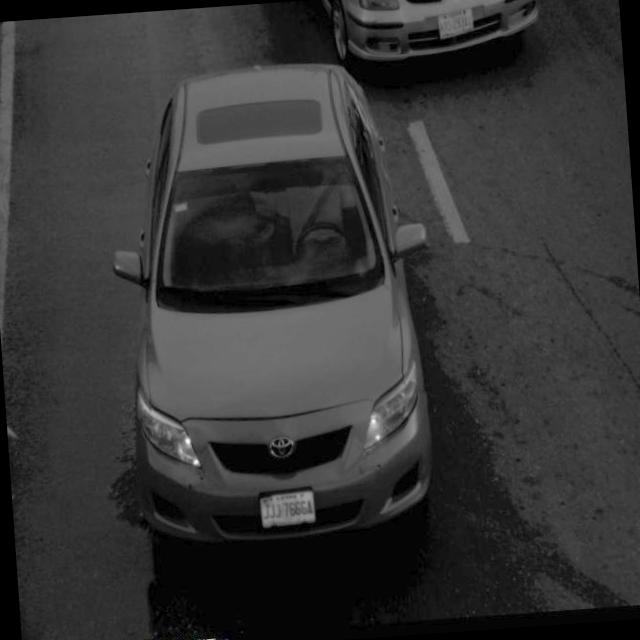person_with_seatbelt: (276, 166, 359, 270)
